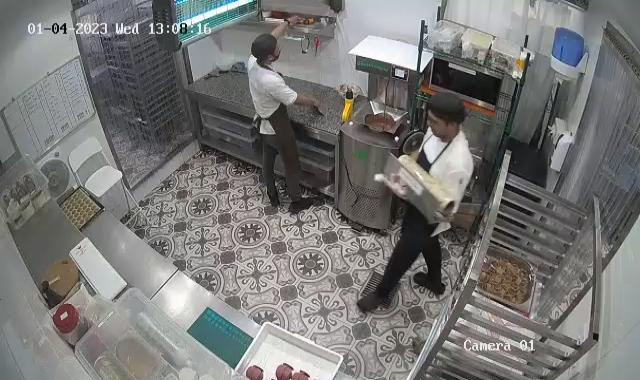no_hairnet: (429, 92, 466, 128), (252, 31, 278, 63)
